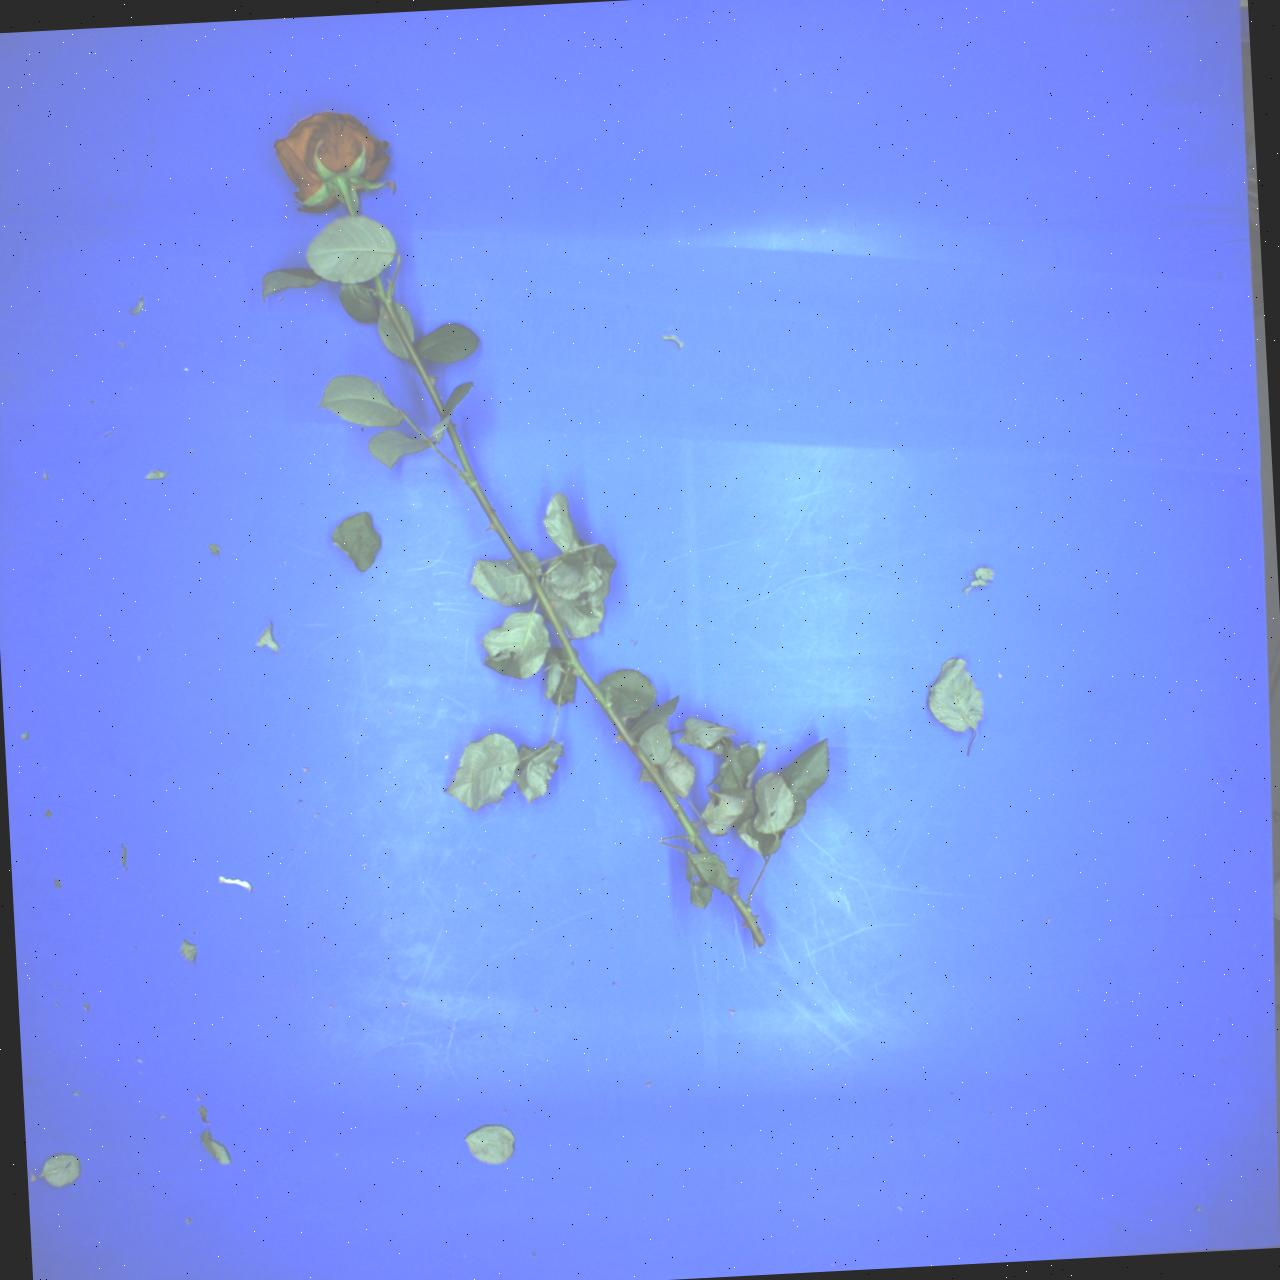Stem: (430, 421, 709, 864), (370, 273, 447, 415), (724, 891, 770, 947), (335, 176, 356, 217)
flower: (265, 88, 402, 220)
